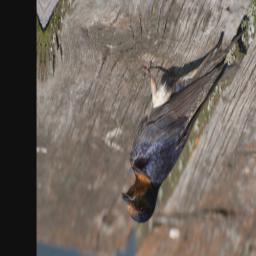Swallow: (120, 10, 248, 236)
